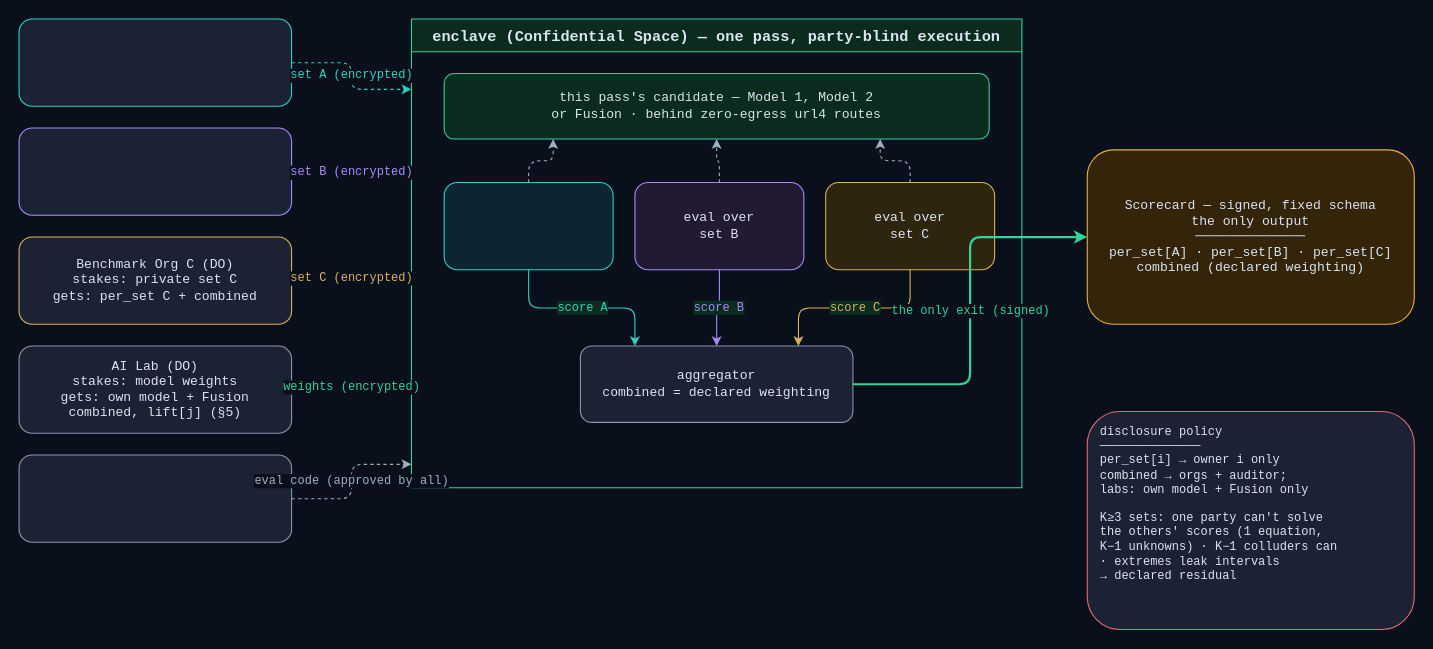
This 1433x649 diagram has some shape labels left out. Here are the shapes that lost their labels. From the top down, the centre of each, then its label:
the point at 155,62: Benchmark Org A (DO) stakes: private set A gets: per_set A + combined
the point at 155,171: Benchmark Org B (DO) stakes: private set B gets: per_set B + combined
the point at 528,225: eval over set A
the point at 155,498: Auditor (DS) stakes: eval code + synthesizer gets: every combined + lift
